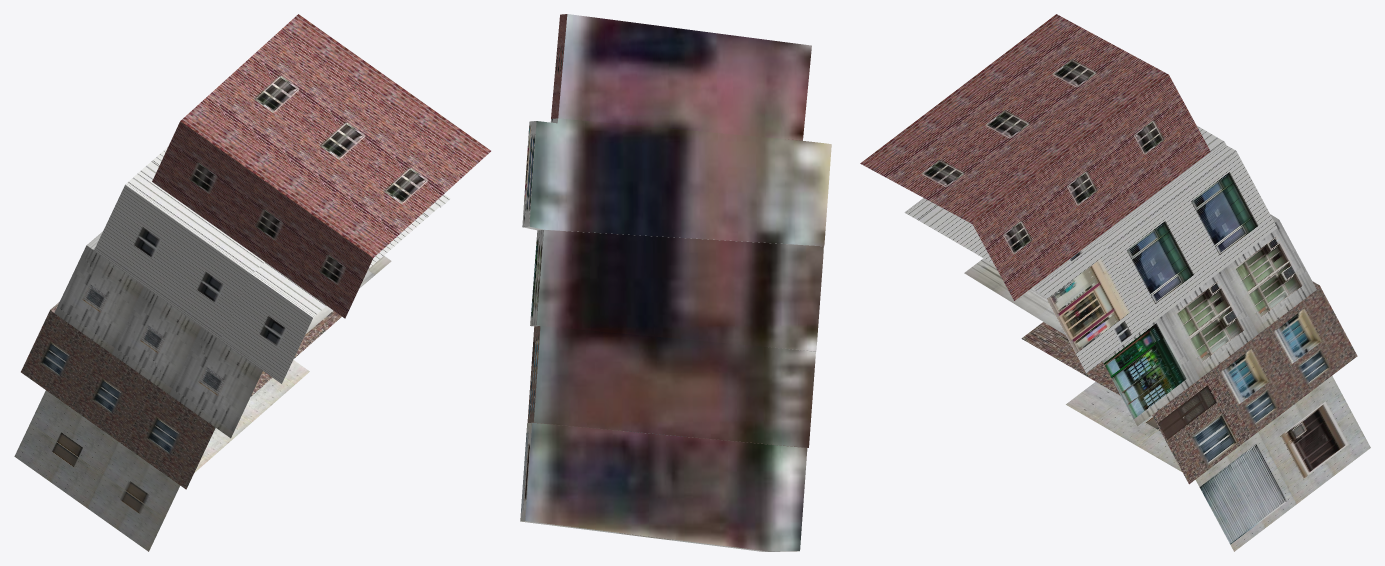
3 views of the same model, side by side, from view 1: azimuth 30°, elevation 25°; view 2: azimuth 150°, elevation 25°; view 3: azimuth 270°, elevation 25° (orthographic). The views are drawn at different scales.
Size of the model in its own units: 17.29 by 22.3 by 20.75.
Materials: 18 (18 with a texture image).
